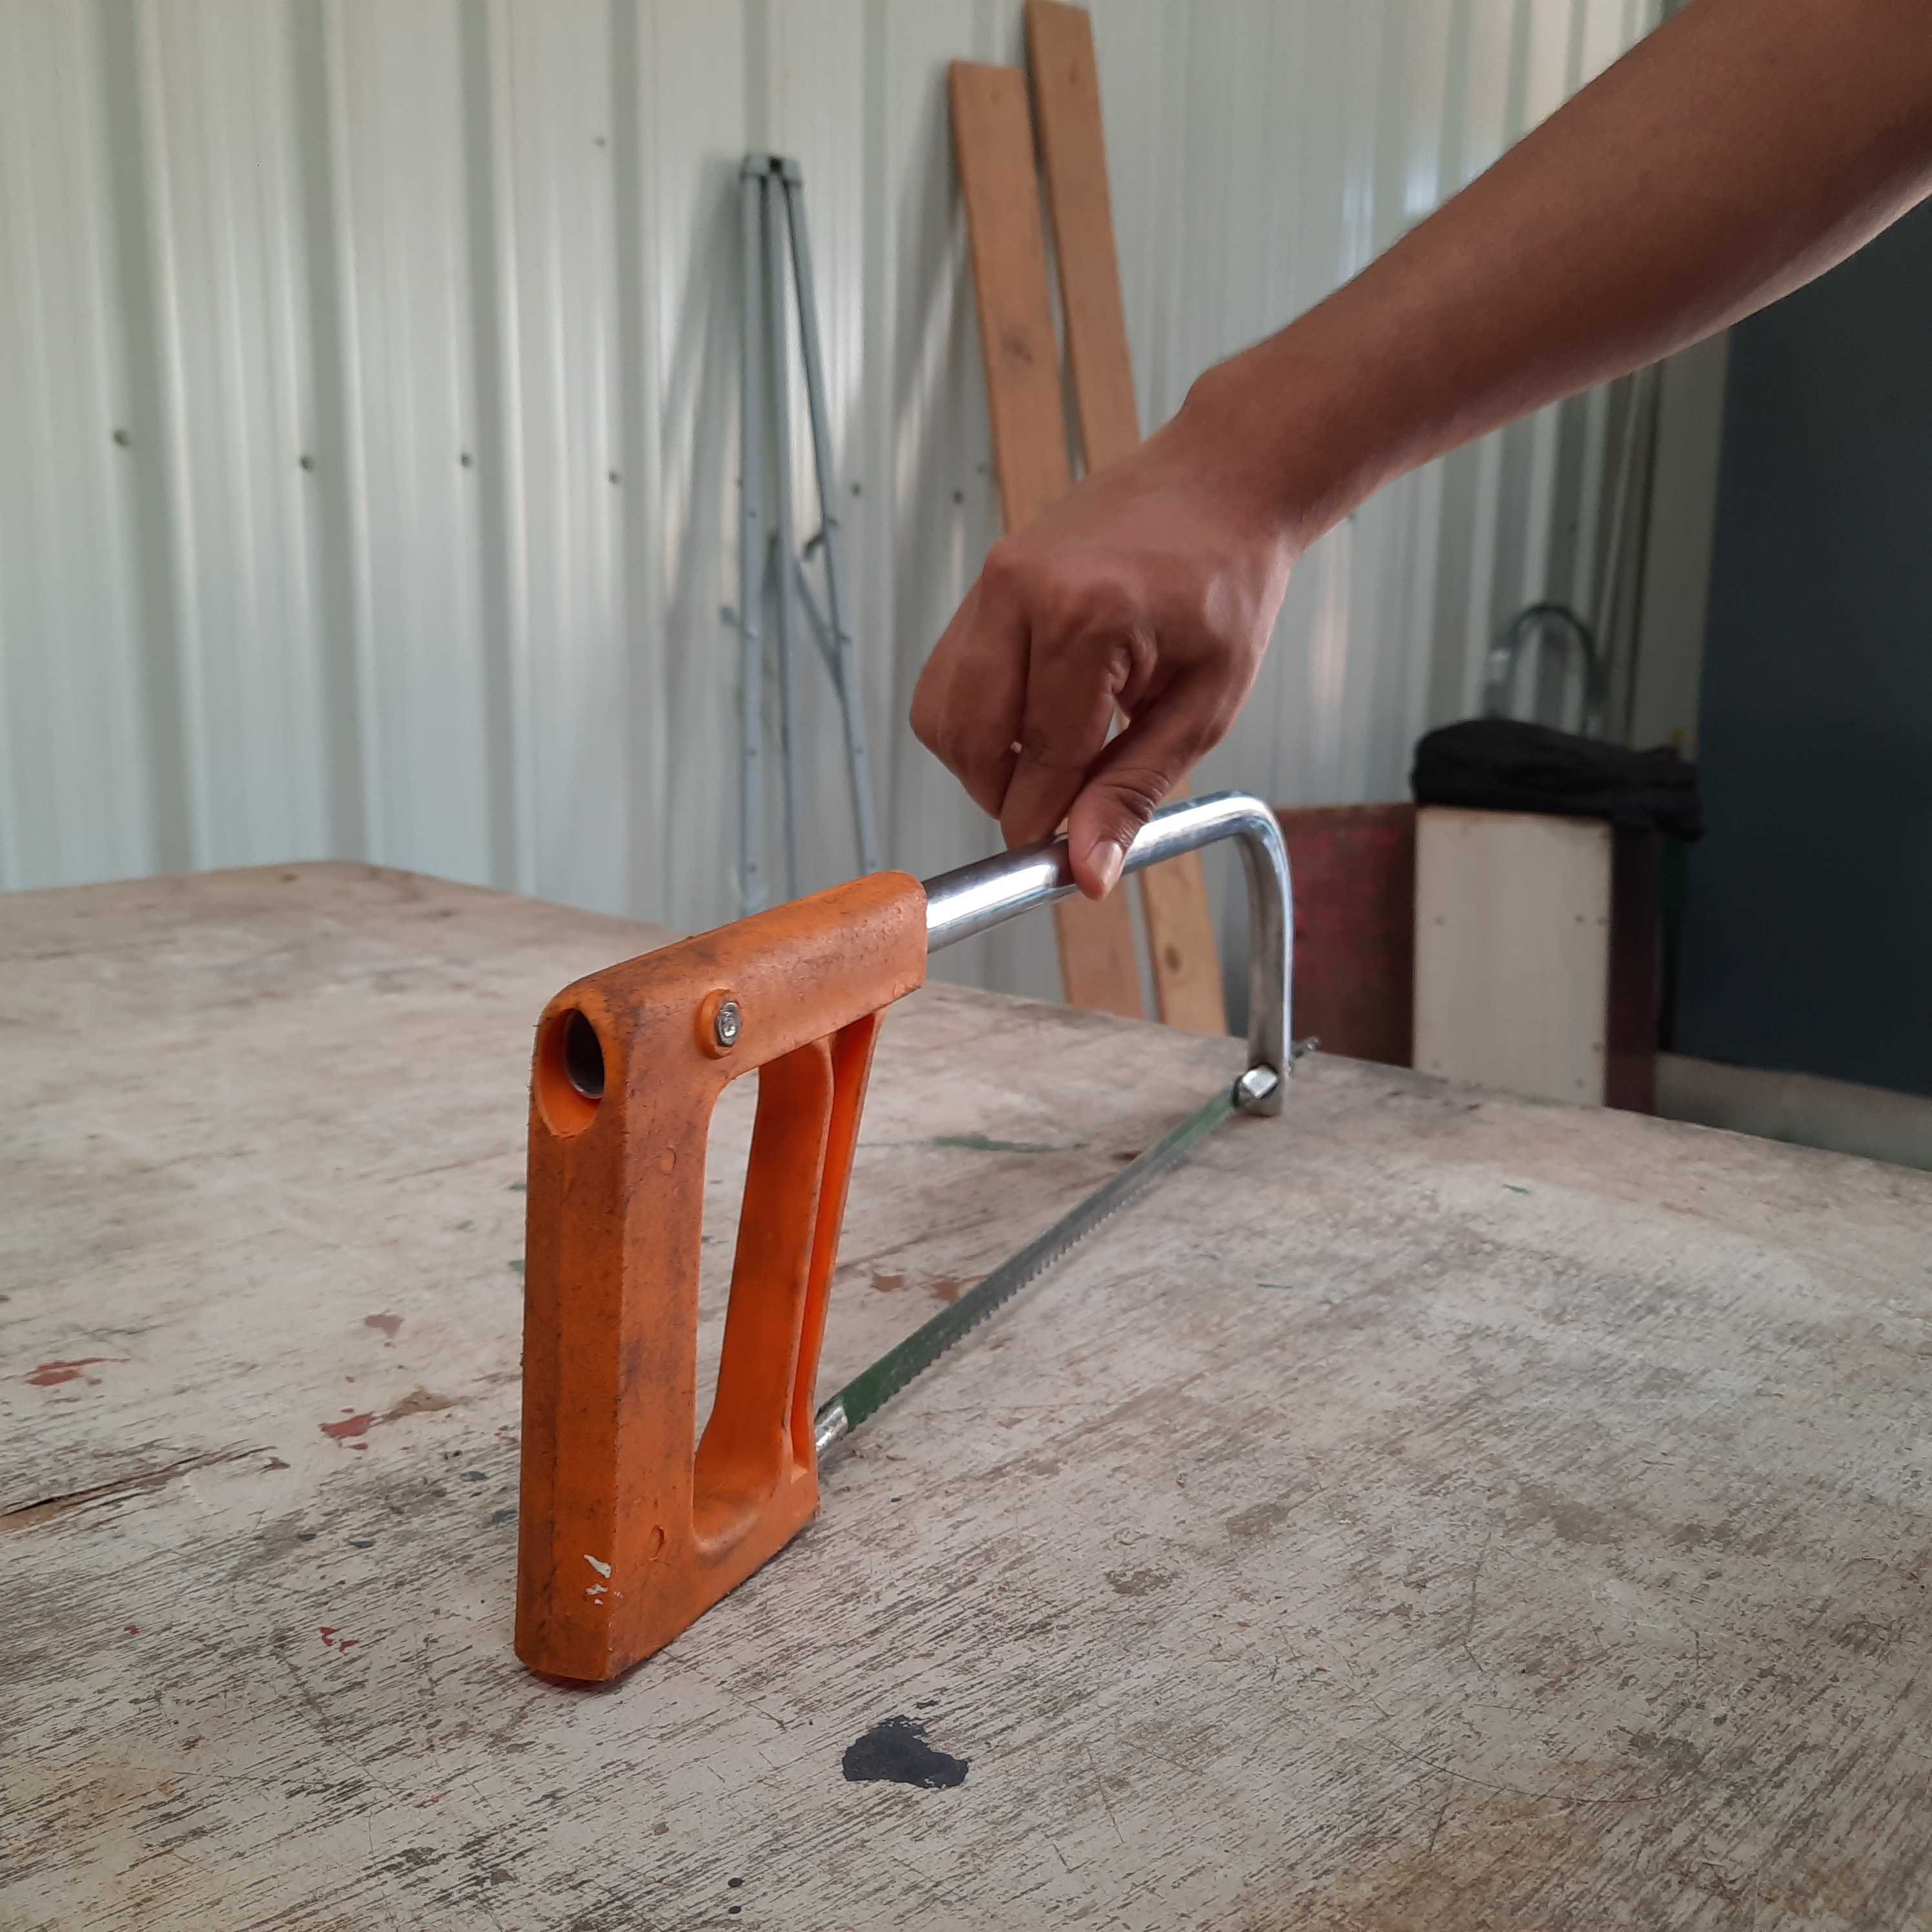Hexaframe: (517, 787, 1329, 1688)
